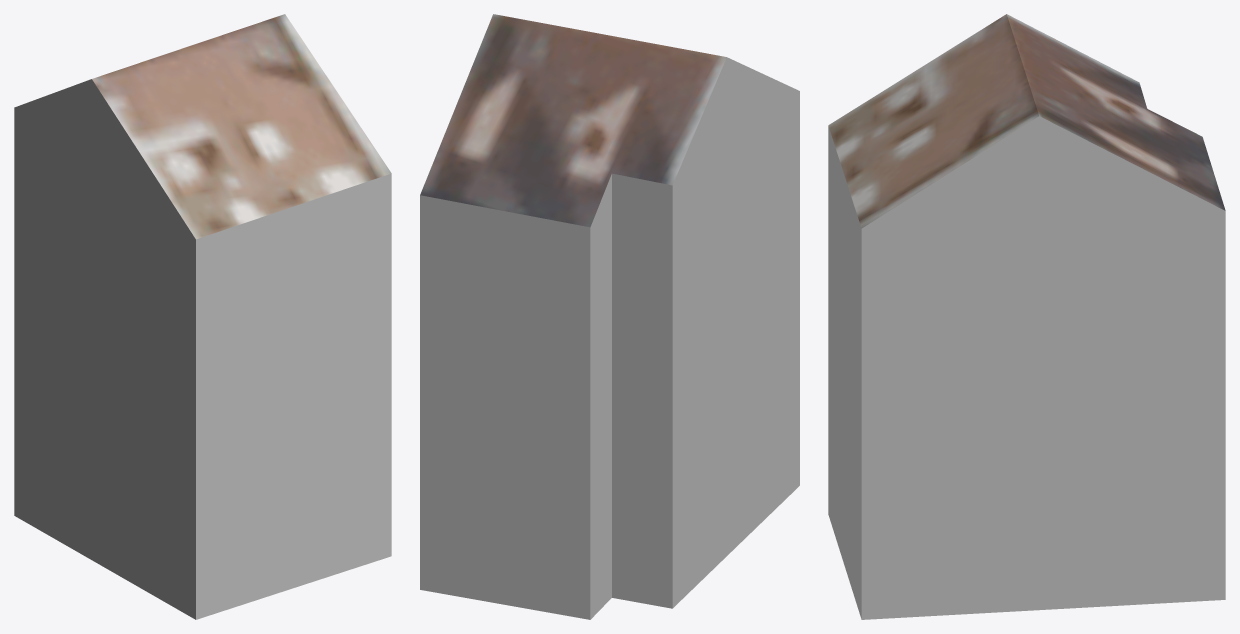
File: DEBW_0010007Tvjc.gltf
The picture shows the model from 3 angles, left to right: view 1: azimuth 30°, elevation 25°; view 2: azimuth 150°, elevation 25°; view 3: azimuth 270°, elevation 25°; orthographic projection. The views are drawn at different scales.
Visible parts, largest first — view 1: Z_UP; view 2: Z_UP; view 3: Z_UP.
Part boxes in pixels (x1=…): Z_UP: x1=14, y1=14, x2=391, y2=619; Z_UP: x1=420, y1=14, x2=799, y2=619; Z_UP: x1=828, y1=14, x2=1225, y2=619.
Size of the model in its own units: 10.25 by 19.6 by 14.29.
Materials: 2 (1 with a texture image).
